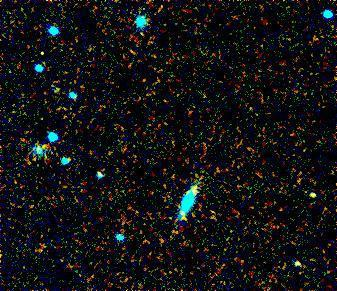star: (22, 37, 52, 67)
